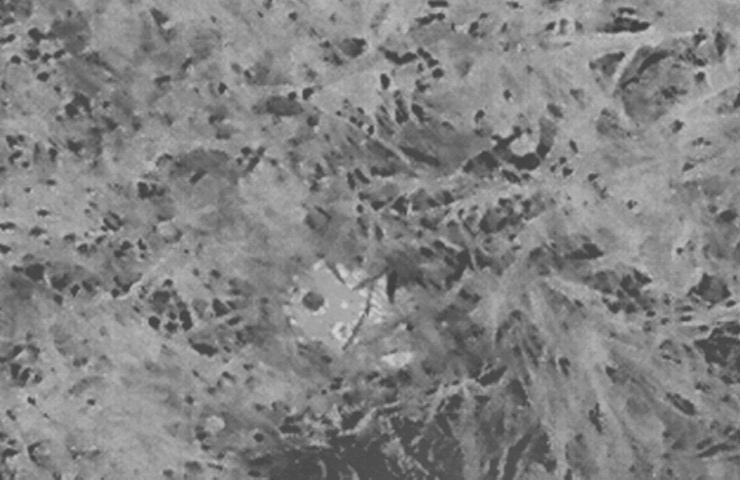landmines: (273, 254, 442, 386)
